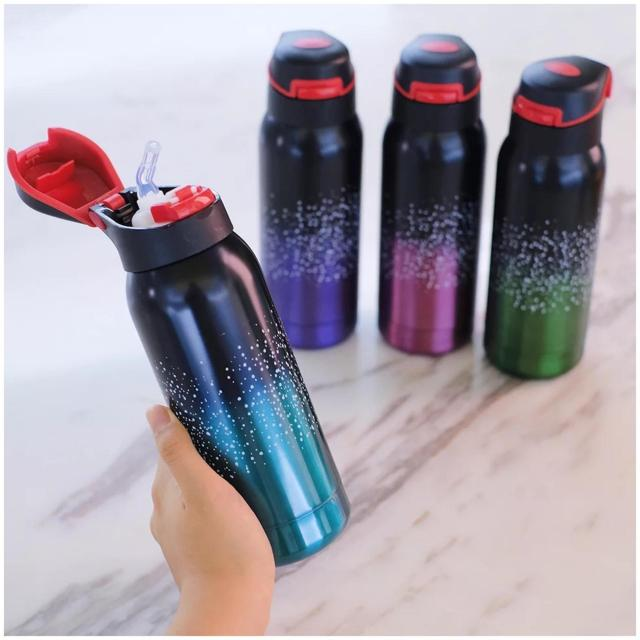gym bottle: (85, 180, 357, 574), (482, 57, 614, 380), (252, 29, 367, 352), (374, 33, 488, 356)
